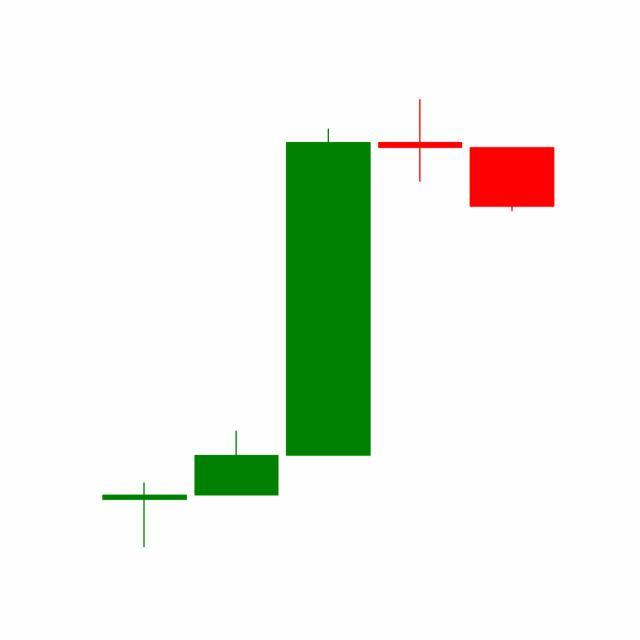Spinning Top: (374, 99, 468, 185)
